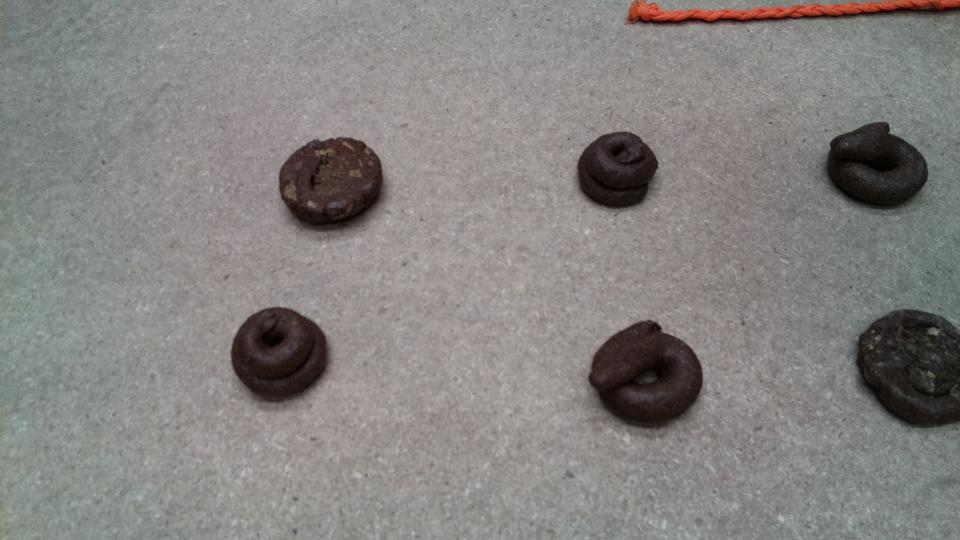poop: (852, 299, 960, 431), (585, 316, 706, 432), (271, 131, 388, 230), (227, 302, 333, 402), (823, 118, 931, 214), (573, 128, 662, 211)
rope: (622, 1, 960, 29)
